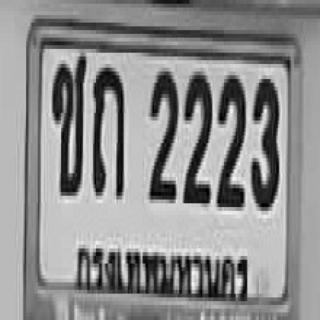A10: (50, 53, 85, 192)
A22: (92, 64, 124, 196)
N02: (182, 68, 211, 203), (148, 68, 177, 200), (215, 72, 244, 203)
N03: (250, 75, 278, 207)
P04: (73, 234, 258, 314)
